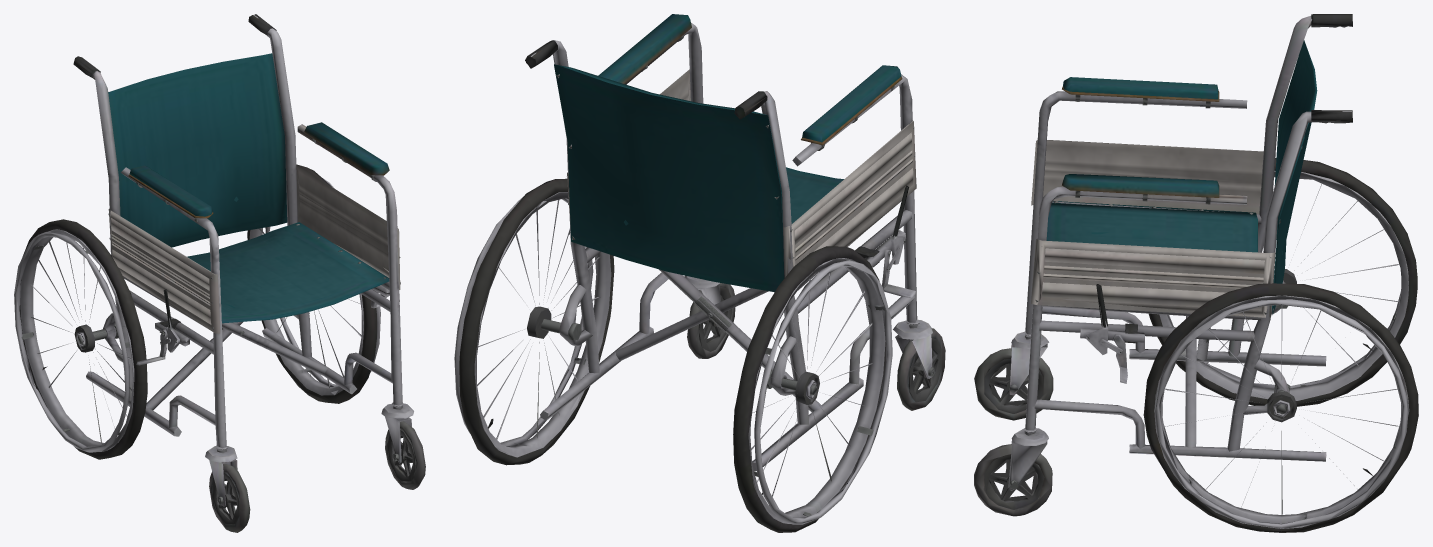
The model's file is wheelchair_01.glb.
3 renders of one model, left to right at view 1: azimuth 30°, elevation 25°; view 2: azimuth 150°, elevation 25°; view 3: azimuth 270°, elevation 25°, orthographic. The views are drawn at different scales.
Visible parts, largest first — view 1: wheelchair_01; view 2: wheelchair_01; view 3: wheelchair_01.
Part boxes in pixels (x1,y1,x2,y2): wheelchair_01: (14,14,425,532); wheelchair_01: (454,14,945,532); wheelchair_01: (974,14,1418,532).
Size of the model in its own units: 0.8241 by 1.1 by 1.09.
1 material, 1 textured.
